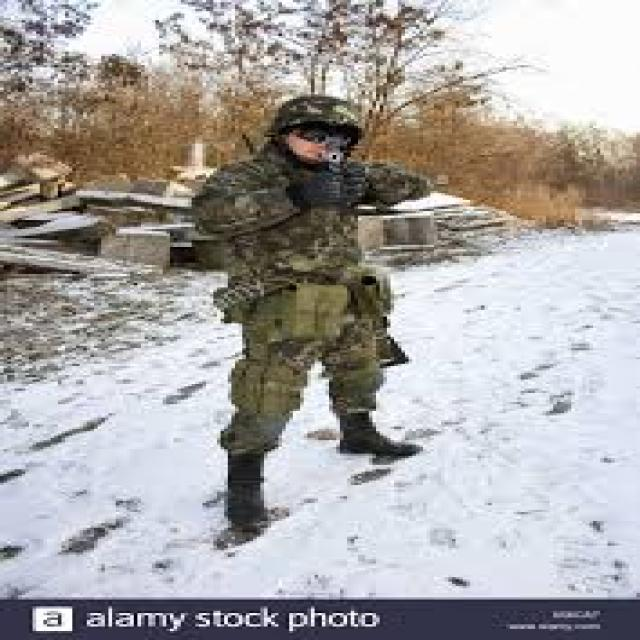soldier: (151, 102, 515, 559)
